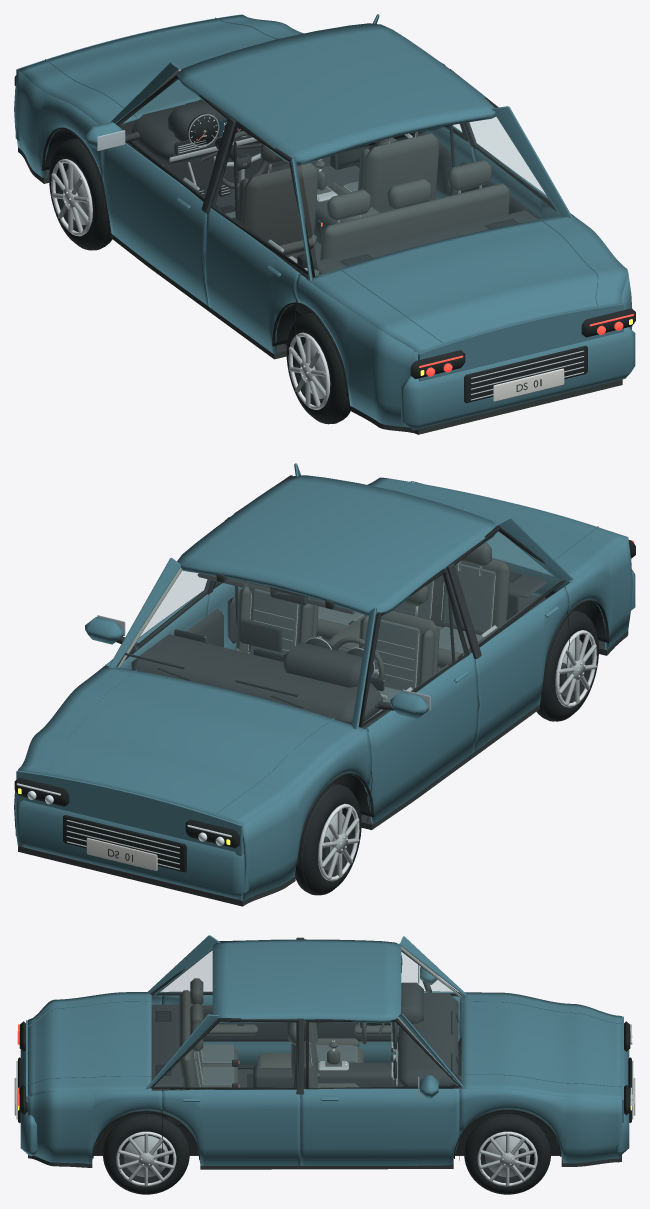
The model's file is DS_Sedan_A_cabin_v3.fbx.
3 renders of one model, top to bottom at view 1: azimuth 30°, elevation 25°; view 2: azimuth 150°, elevation 25°; view 3: azimuth 270°, elevation 25°, orthographic. The views are drawn at different scales.
Visible parts, largest first — view 1: Roof, Trunk, Glass_Rear, Hood, DoorFront_L, DoorRear_L, RearQuarter_L, BumperFacia_-1, Glass_Rear_L, Glass_Front_L, RearBench_Backrest, Shell_RearUpperFacia (+33 smaller); view 2: Hood, Roof, Glass_Windshield, DoorFront_L, Dashboard, DoorRear_L, Trunk, Glass_Front_L, FrontWing_L, BumperFacia_1, Glass_Rear_L, Shell_FrontUpperFacia (+34 smaller); view 3: Roof, Hood, DoorFront_R, Trunk, DoorRear_R, Glass_Front_R, Glass_Rear_R, FrontWing_R, RearQuarter_R, Glass_Windshield, Glass_Rear, Dashboard (+31 smaller).
Boxes of the visible parts, box(x1,y1,x2,y2) form: Roof: box(176, 23, 495, 164); Trunk: box(306, 214, 627, 352); Glass_Rear: box(301, 115, 560, 275); Hood: box(18, 14, 303, 125); DoorFront_L: box(101, 143, 208, 306); DoorRear_L: box(204, 208, 300, 354); RearQuarter_L: box(294, 274, 419, 429); BumperFacia_-1: box(401, 327, 635, 430); Glass_Rear_L: box(214, 127, 306, 270); Glass_Front_L: box(119, 81, 226, 197); RearBench_Backrest: box(318, 183, 510, 274); Shell_RearUpperFacia: box(418, 303, 623, 381); Hood: box(18, 665, 365, 824); Roof: box(177, 475, 495, 616); Glass_Windshield: box(117, 568, 368, 722); DoorFront_L: box(366, 652, 478, 823); Dashboard: box(131, 634, 382, 724); DoorRear_L: box(474, 587, 569, 751); Trunk: box(367, 477, 627, 582); Glass_Front_L: box(364, 575, 464, 722); FrontWing_L: box(241, 728, 371, 901); BumperFacia_1: box(15, 800, 249, 898); Glass_Rear_L: box(456, 532, 559, 643); Shell_FrontUpperFacia: box(16, 770, 243, 856); Roof: box(212, 939, 401, 1023); Hood: box(461, 992, 621, 1099); DoorFront_R: box(300, 1088, 459, 1165); Trunk: box(28, 992, 151, 1096); DoorRear_R: box(162, 1089, 300, 1165); Glass_Front_R: box(309, 1022, 456, 1087); Glass_Rear_R: box(155, 1022, 295, 1087); FrontWing_R: box(459, 1088, 621, 1163); RearQuarter_R: box(28, 1090, 162, 1164); Glass_Windshield: box(402, 951, 462, 1079); Glass_Rear: box(150, 947, 212, 1081); Dashboard: box(398, 993, 458, 1088).
Size of the model in its own units: 225 by 468 by 146.
